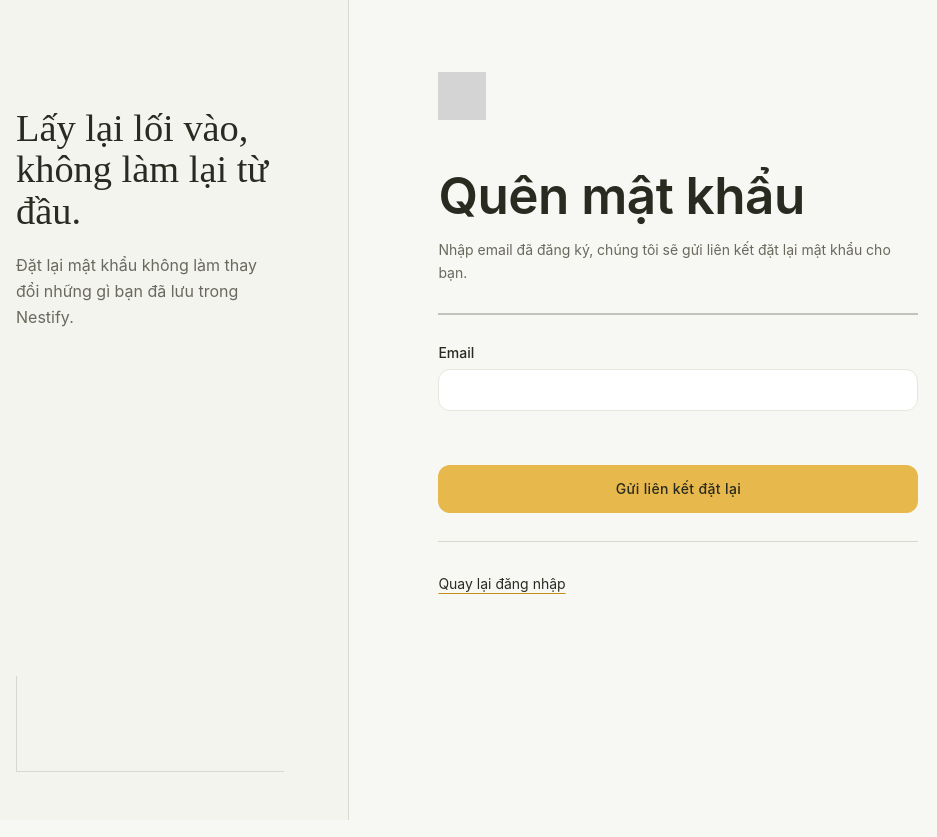
it: ForgotPasswordPage › shows a validation error when submitting without an email
Click the button "Gửi liên kết đặt lại" at [678, 489], box [438,465,918,513]
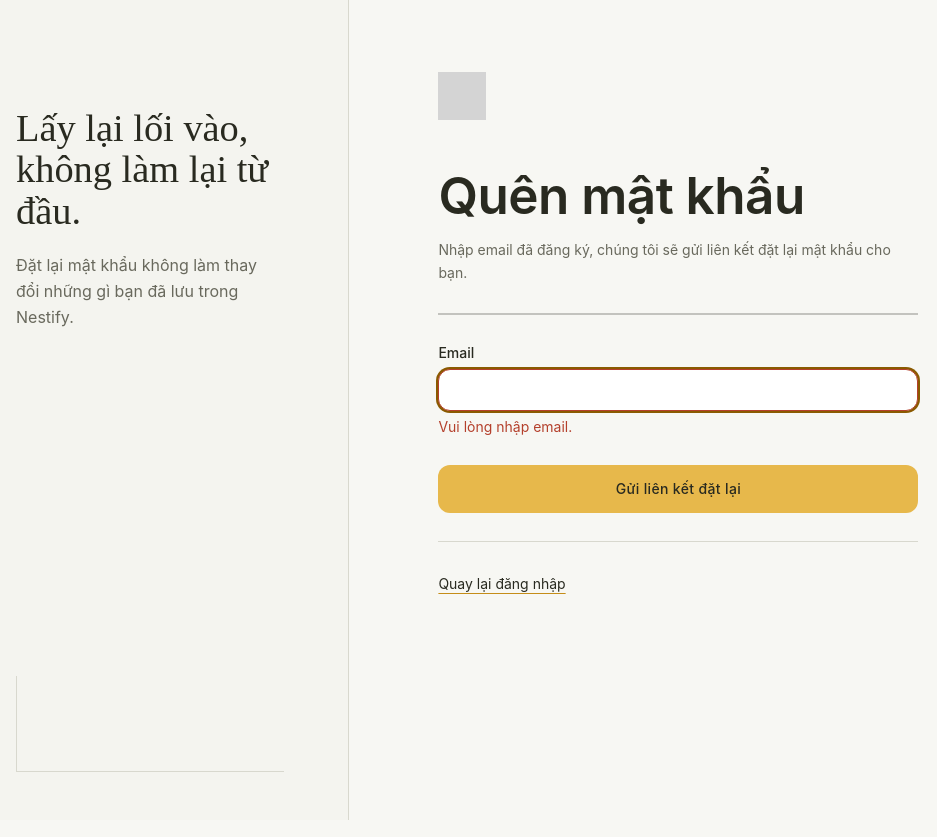
expect the text "Vui lòng nhập email." is shown: met, box [438,418,572,435]
